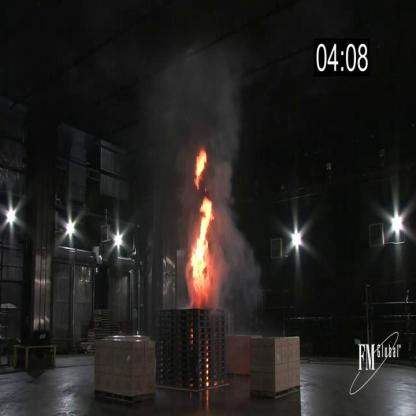fire: (182, 196, 218, 308), (186, 138, 207, 190)
